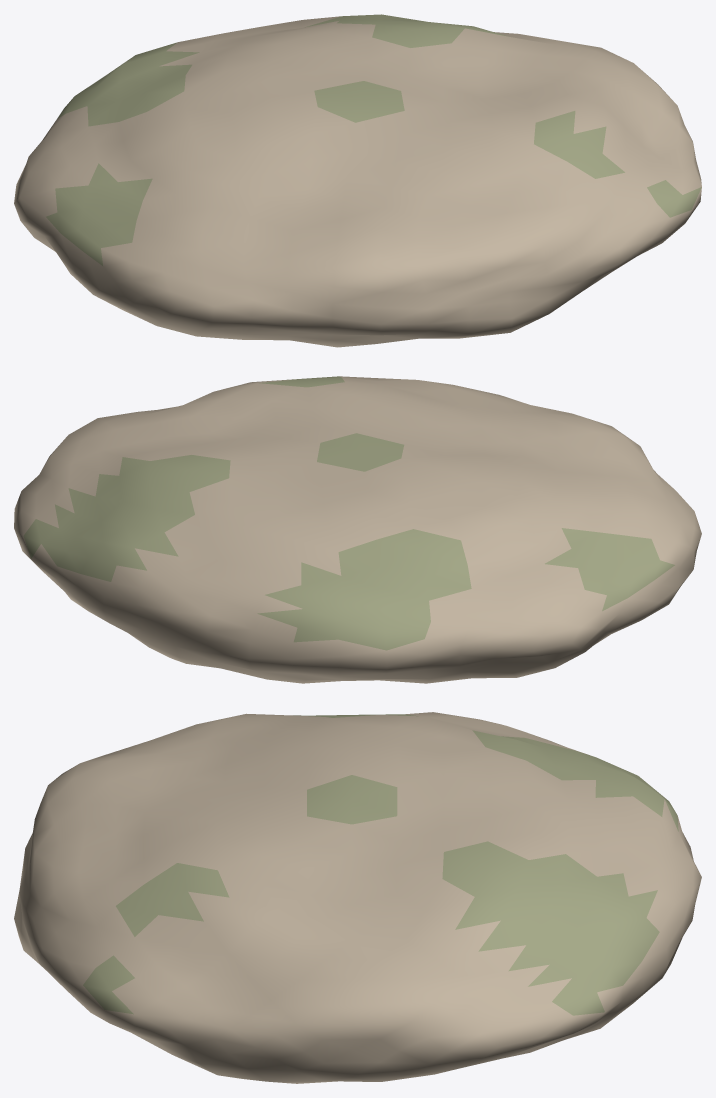
File: rock-slab.gltf
3 renders of one model, top to bottom at view 1: azimuth 30°, elevation 25°; view 2: azimuth 150°, elevation 25°; view 3: azimuth 270°, elevation 25°, orthographic. The views are drawn at different scales.
Visible parts, largest first — view 1: rock-slab; view 2: rock-slab; view 3: rock-slab.
Boxes of the visible parts, bbox=[...] form: rock-slab: bbox=[14, 14, 701, 347]; rock-slab: bbox=[14, 376, 701, 683]; rock-slab: bbox=[14, 712, 701, 1083].
Size of the model in its own units: 16 by 4.48 by 14.51.
